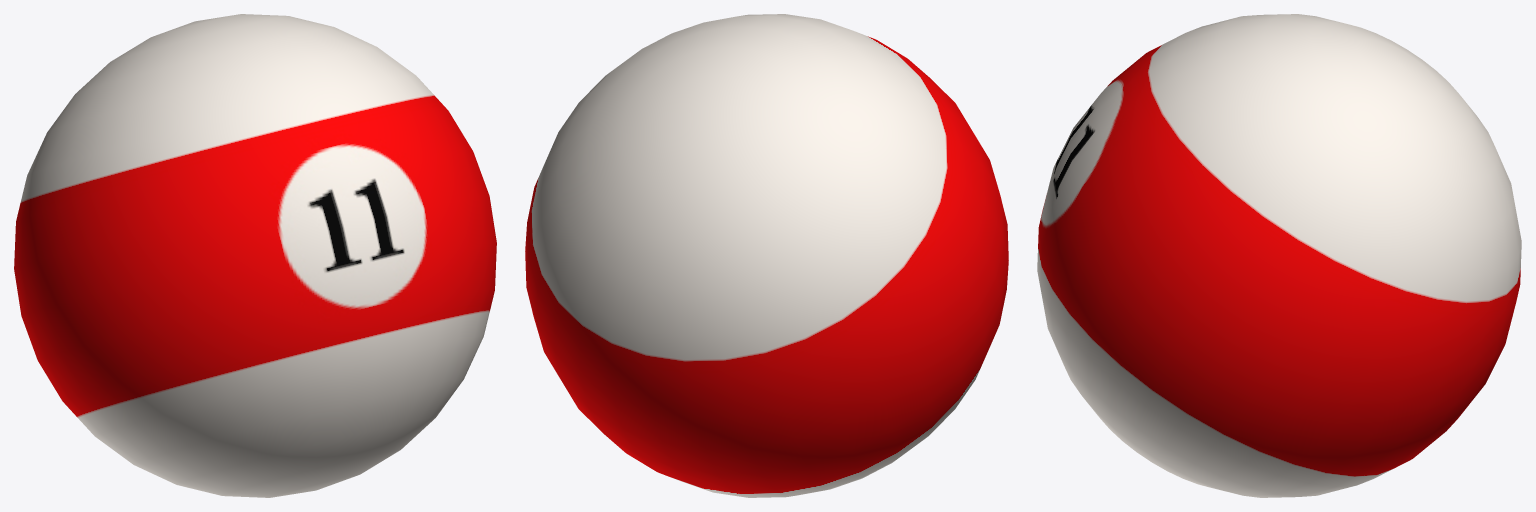
The model's file is ball11.obj.
The picture shows the model from 3 angles, left to right: view 1: azimuth 30°, elevation 25°; view 2: azimuth 150°, elevation 25°; view 3: azimuth 270°, elevation 25°; orthographic projection.
Visible parts, largest first — view 1: Ball11_Mesh.008; view 2: Ball11_Mesh.008; view 3: Ball11_Mesh.008.
Boxes of the visible parts, x1,y1,x2,y2 form: Ball11_Mesh.008: (14, 14, 496, 497); Ball11_Mesh.008: (525, 14, 1008, 497); Ball11_Mesh.008: (1037, 14, 1521, 497).
Bounding box in the file's own units: 0.9617 × 0.9597 × 0.9597.
1 material, 1 textured.
